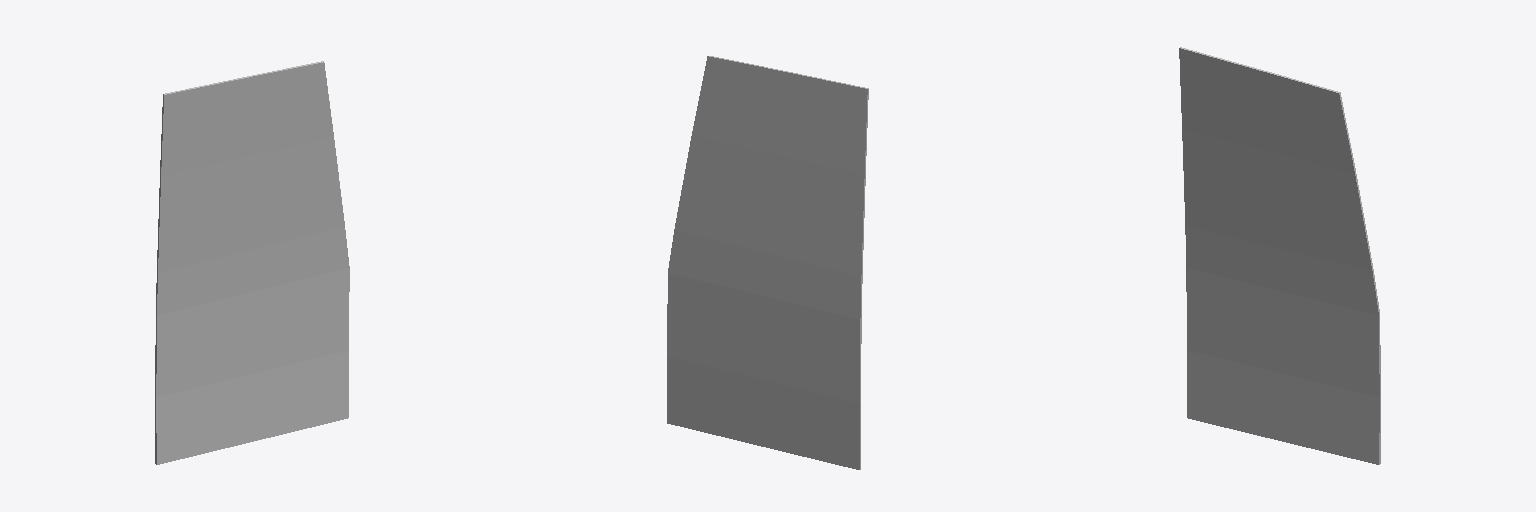
The model's file is van_backdoor_L.obj.
3 renders of one model, left to right at view 1: azimuth 30°, elevation 25°; view 2: azimuth 150°, elevation 25°; view 3: azimuth 330°, elevation 25°, orthographic.
Parts seen in each view (by area): view 1: BackDoorLeft; view 2: BackDoorLeft; view 3: BackDoorLeft.
Part boxes in pixels (bbox=[...]): BackDoorLeft: bbox=[155, 61, 349, 464]; BackDoorLeft: bbox=[667, 56, 868, 469]; BackDoorLeft: bbox=[1179, 47, 1380, 464].
Size of the model in its own units: 0.9004 by 1.68 by 0.074.